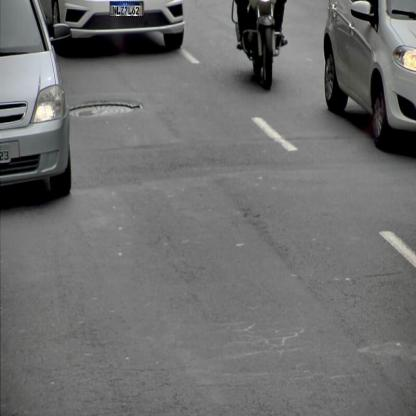PlacaM: (110, 1, 143, 17)
